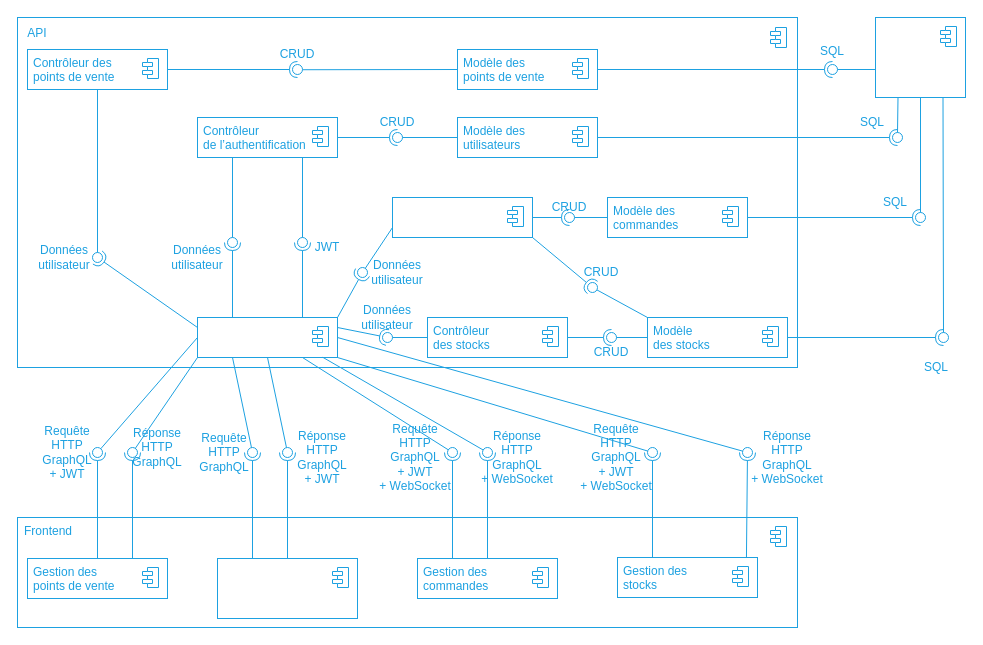
Image size: 983x645. Some labels were removed from this diagram. Each missing label, with the box of its shape:
Connexion / Création de comptes: (216, 558, 358, 618)
Contrôleur des commandes: (392, 196, 532, 238)
Routeur: (196, 316, 338, 358)
SGBD: (874, 16, 966, 98)
